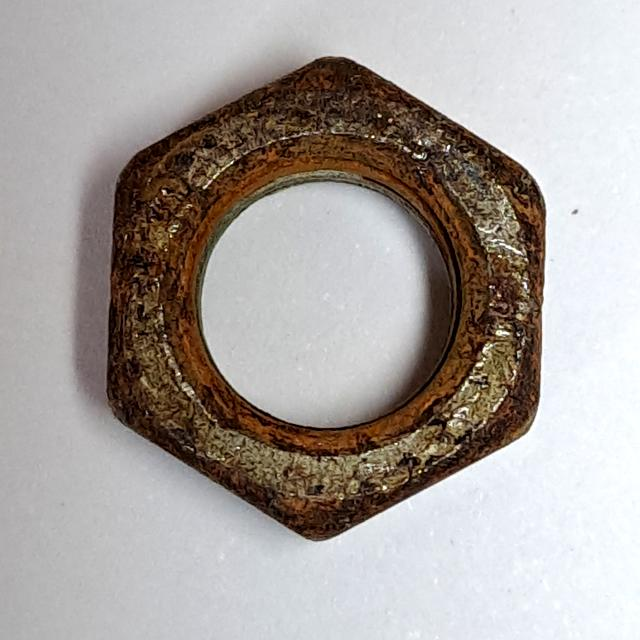Rust: (91, 42, 558, 556)
